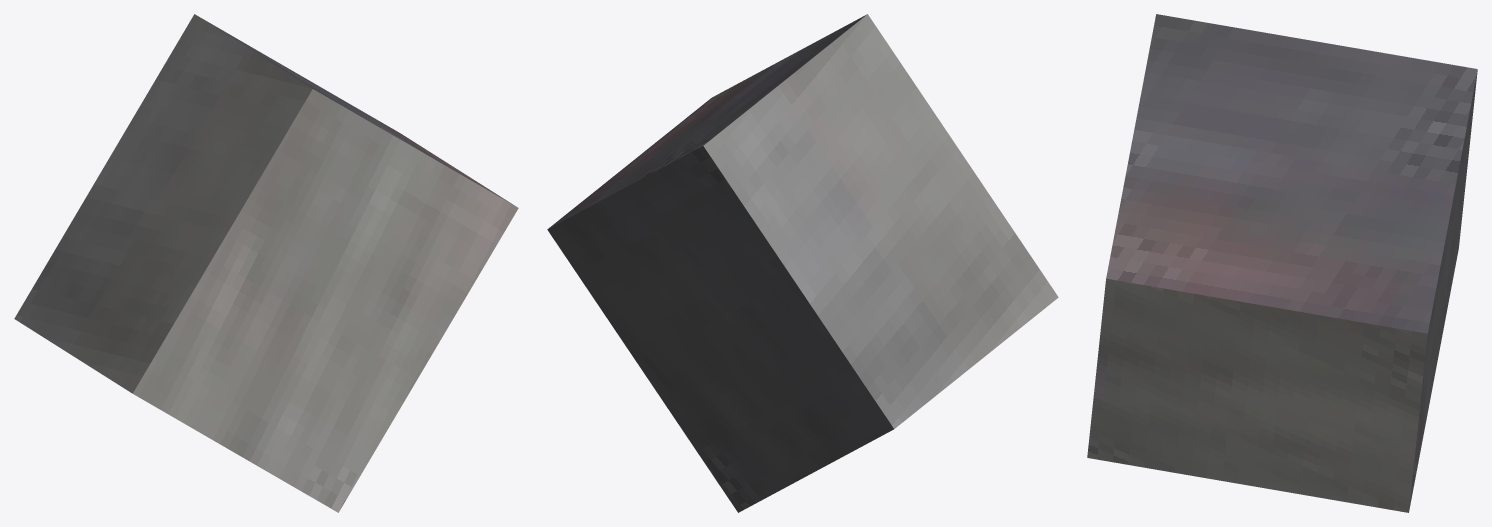
3 renders of one model, left to right at view 1: azimuth 30°, elevation 25°; view 2: azimuth 150°, elevation 25°; view 3: azimuth 270°, elevation 25°, orthographic. The views are drawn at different scales.
Visible parts, largest first — view 1: BAG_0599100010050940; view 2: BAG_0599100010050940; view 3: BAG_0599100010050940.
Part boxes in pixels (x1,y1,x2,y2): BAG_0599100010050940: [14, 14, 518, 512]; BAG_0599100010050940: [547, 14, 1058, 512]; BAG_0599100010050940: [1087, 14, 1477, 512].
Size of the model in its own units: 3.95 by 4.14 by 3.01.
2 materials, 1 textured.
